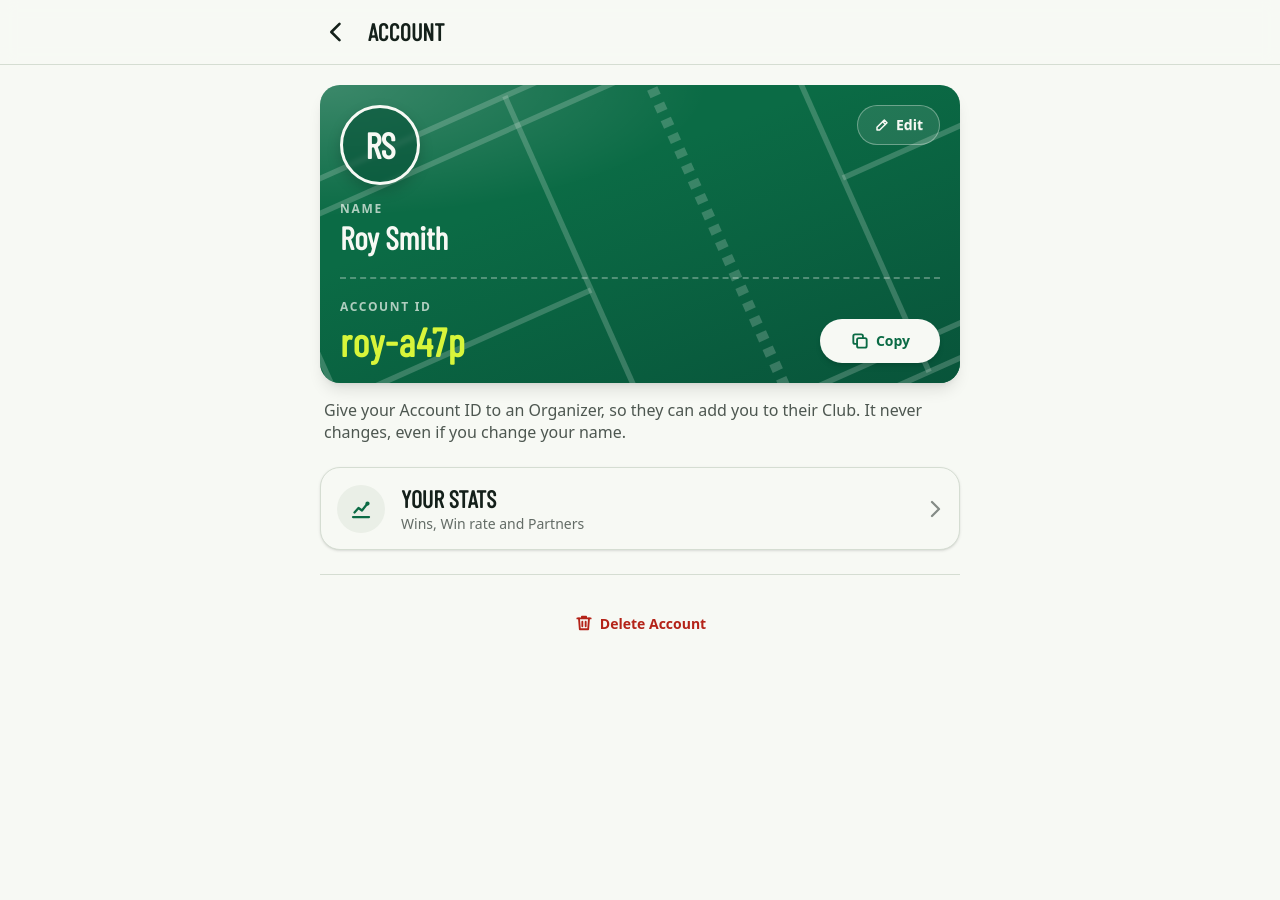
Test: Delete Account › a failed deletion changes nothing on the device and says so
Click the button "Delete Account".
click(640, 623)  # box [320,599,960,647]
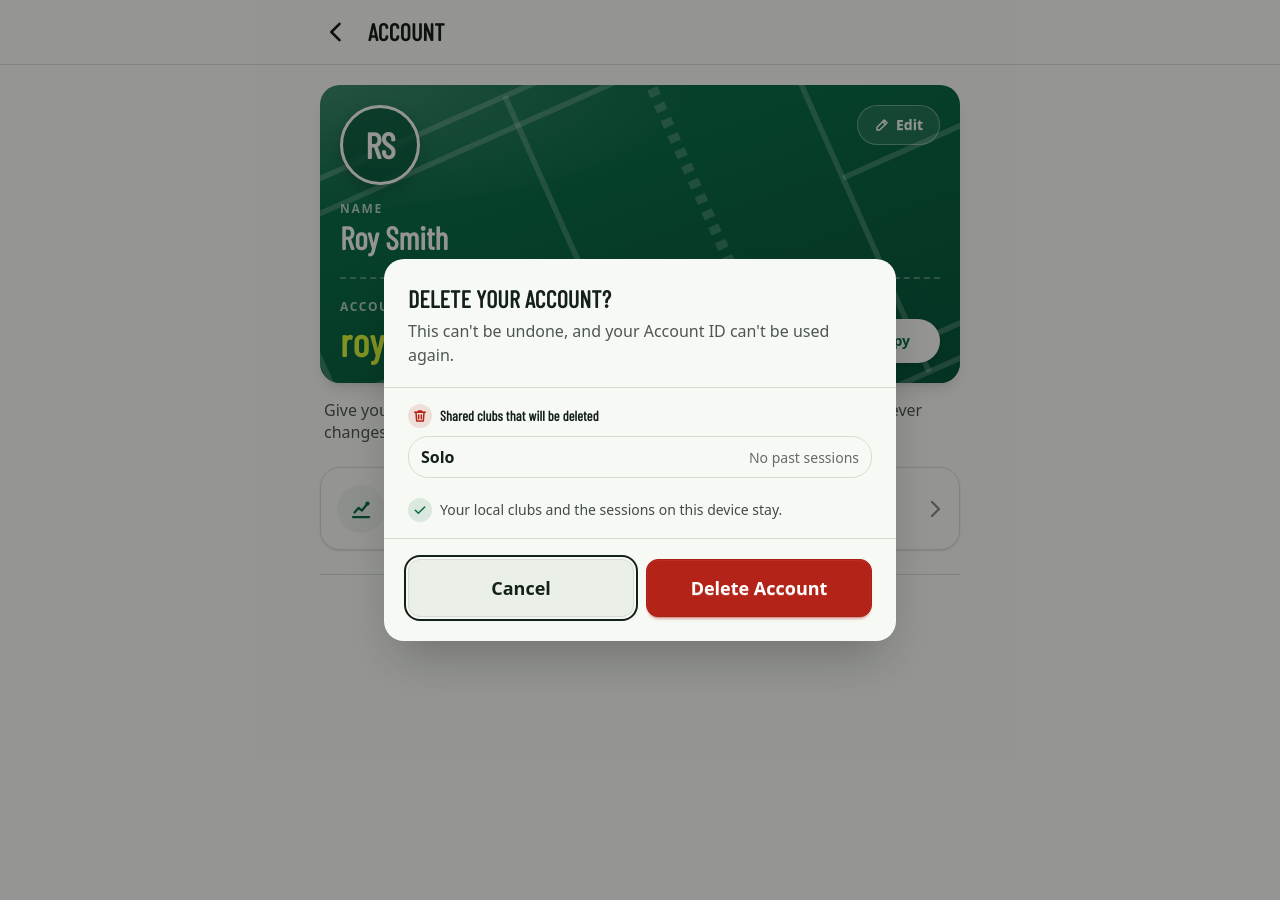
Click the button "Delete Account" below "Solo".
click(759, 588)  # box [646,559,872,617]
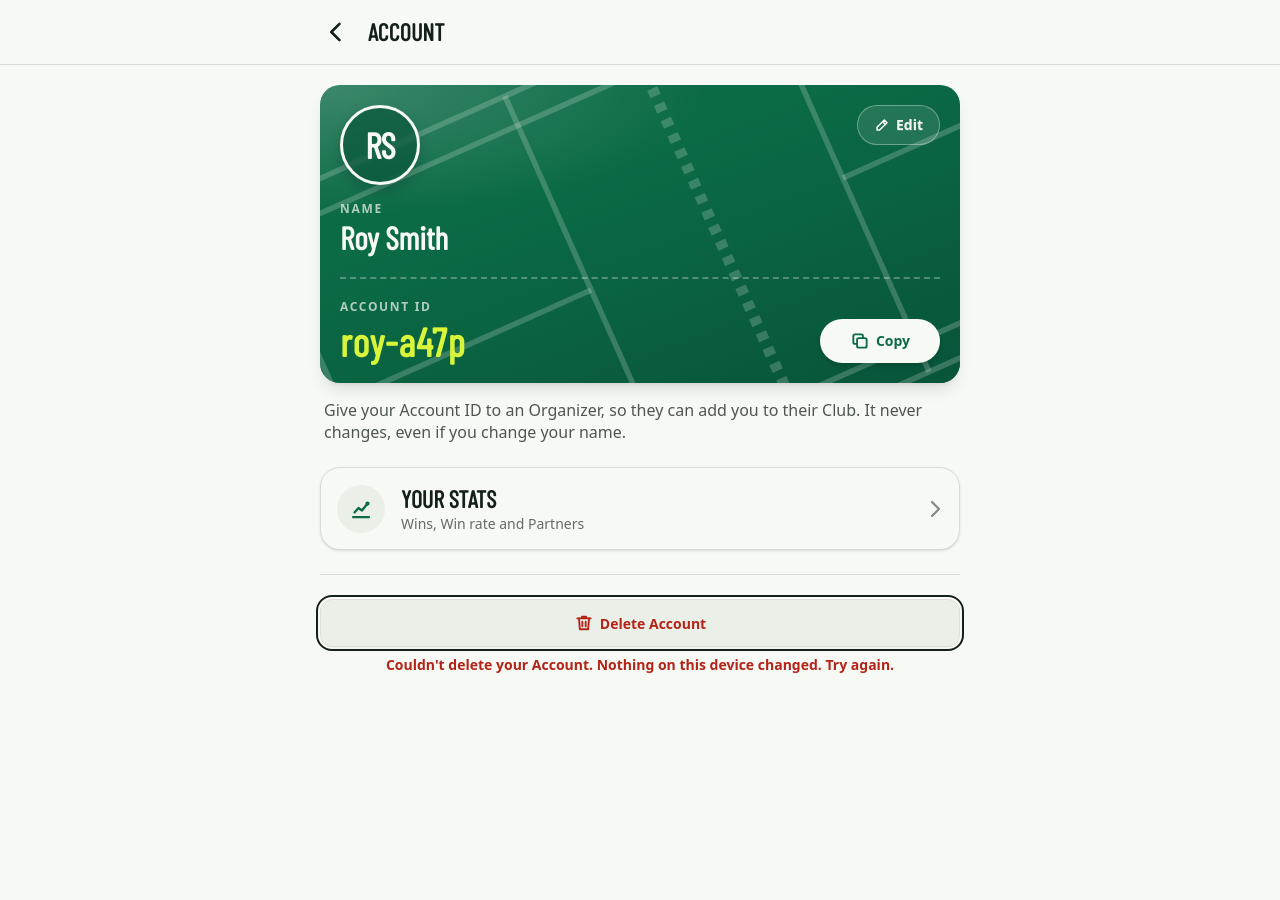
Result: the message reads "Couldn't delete your Account. Nothing on this device changed. Try again." at [386,655,894,674]
